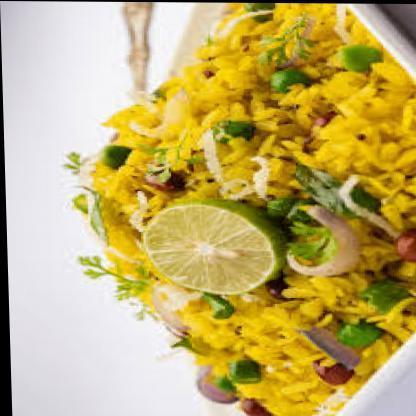poha: (82, 0, 416, 416)
